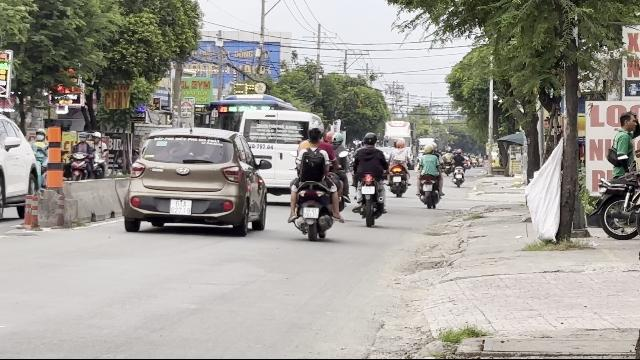helmet: (308, 121, 324, 134)
licenseplate: (304, 208, 318, 218)
motorcyclist: (286, 120, 344, 240)
nohelmet: (306, 128, 324, 148)
